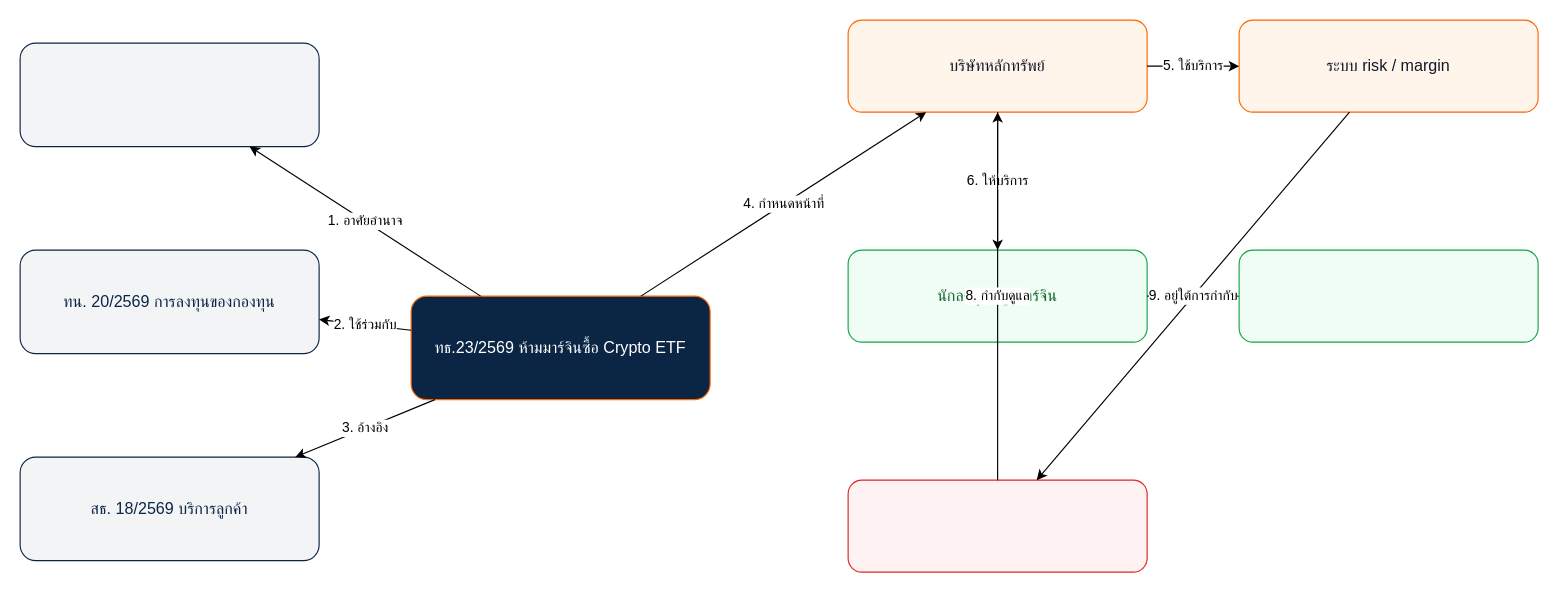
Image size: 1558x592. Some labels were removed from this diagram. The shapes that lost their labels are listed below. From the top down, each one's centre as x and y in pixels, then its label:
At pixel 169 94: "ทธ. 25/2552 กู้ยืมซื้อหลักทรัพย์".
At pixel 1388 295: "นักลงทุนบัญชีเงินสด".
At pixel 997 525: "ก.ล.ต.".
